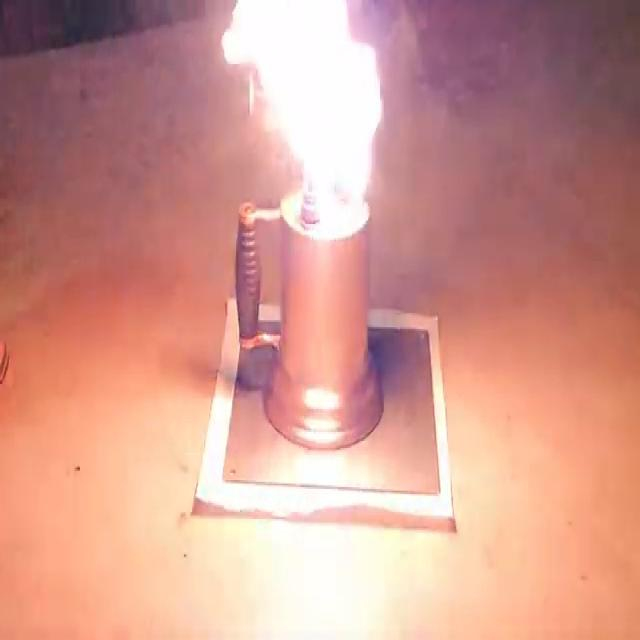fire: (224, 1, 393, 240)
